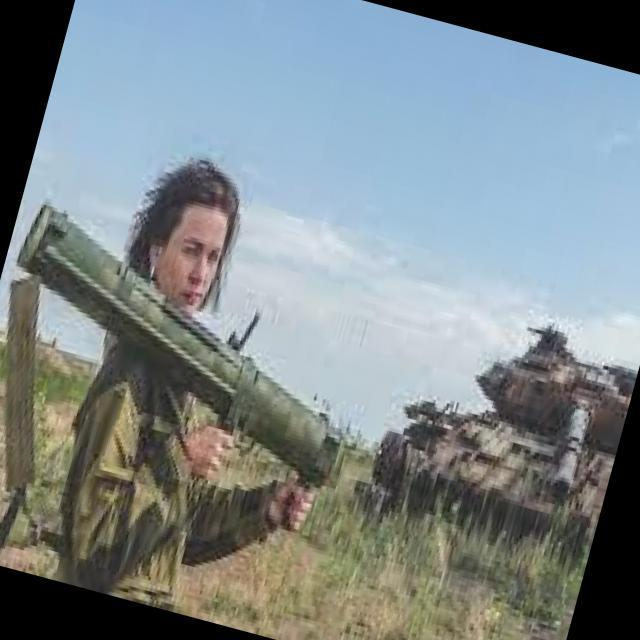rocket: (0, 194, 386, 494)
